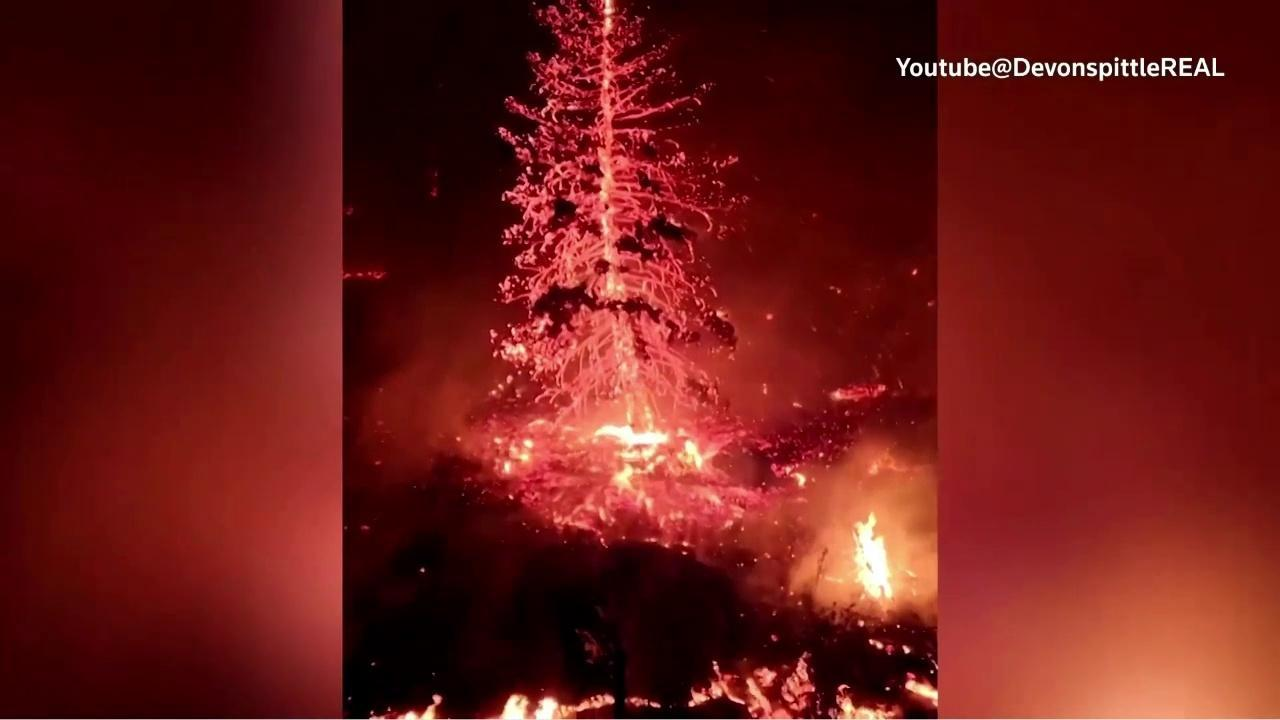fire: (459, 0, 813, 556), (684, 648, 824, 720), (477, 688, 663, 720), (848, 508, 898, 608), (826, 680, 902, 720), (367, 693, 446, 720), (827, 379, 888, 402), (905, 672, 938, 712), (341, 268, 387, 285), (864, 635, 895, 657), (902, 644, 913, 658)
smoke: (344, 1, 937, 720)
